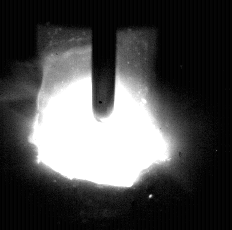arame: (93, 0, 117, 123)
poca: (27, 0, 170, 230)
